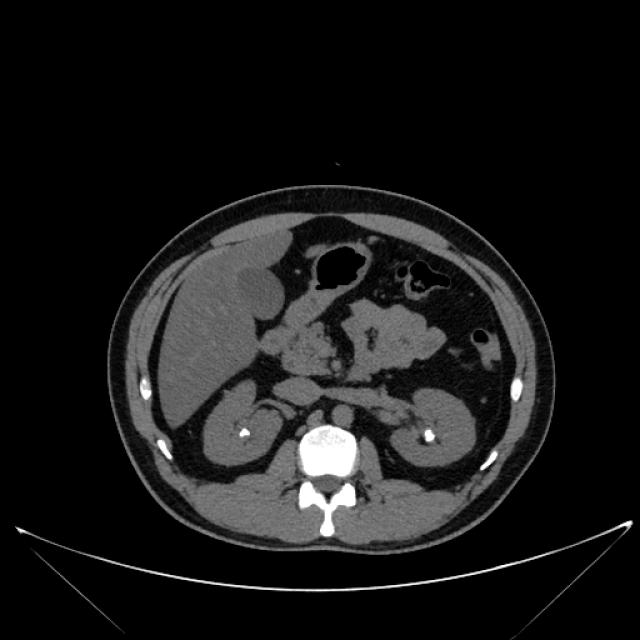kidneystone: (420, 428, 438, 444), (238, 428, 251, 441)
